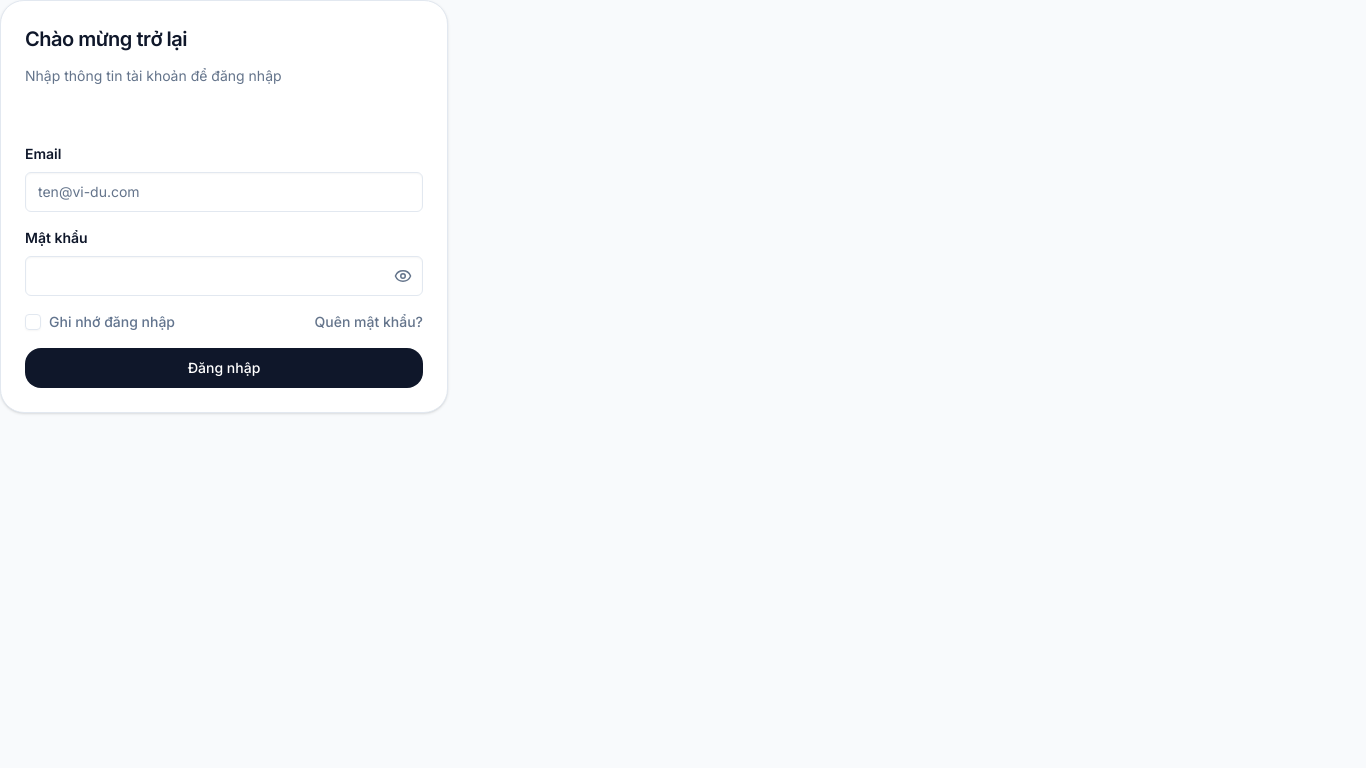
Test case: LoginForm visual refresh › shows password reset dialog when clicking Quên mật khẩu?
What coordinates should you click on to do the following:
click the button "Quên mật khẩu?"
I would click on:
 (369, 322)
Its box is [314, 312, 423, 332].
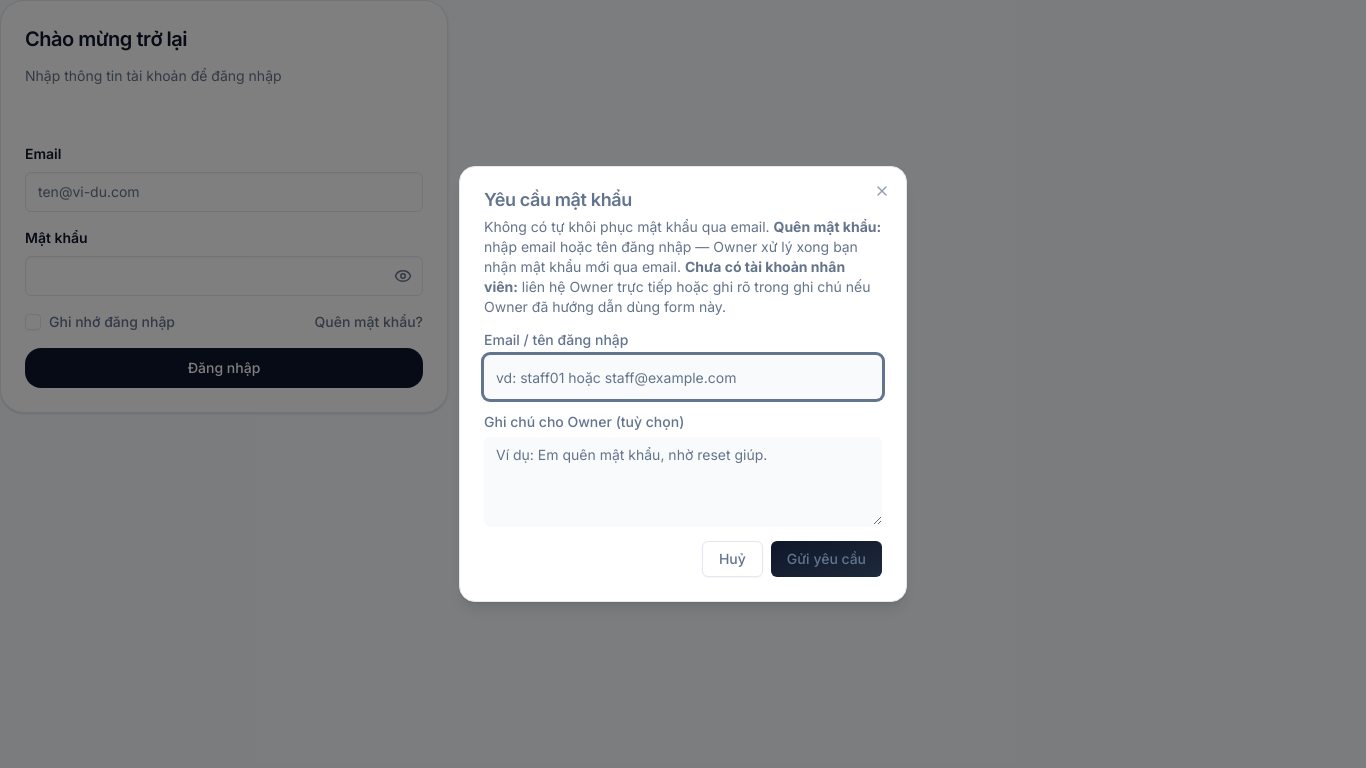
Check: the heading "Yêu cầu mật khẩu" is shown, box [484, 189, 632, 210]
Check: the field labelled "Email / tên đăng nhập" is shown, box [484, 355, 882, 399]
